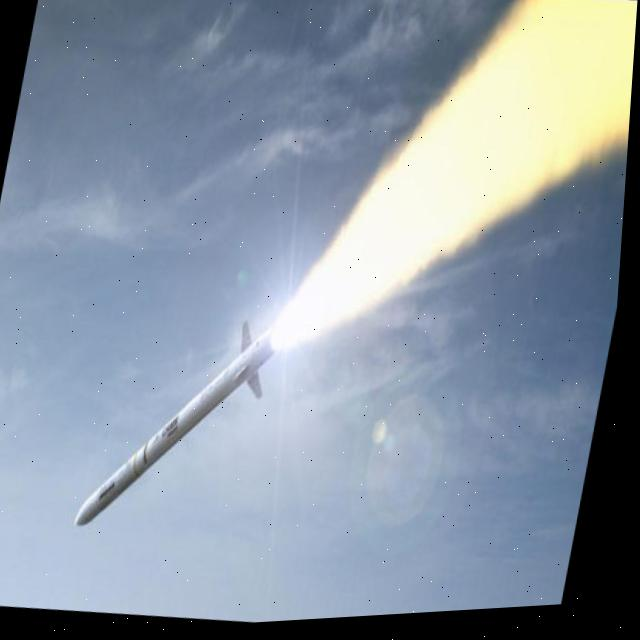missile: (72, 302, 289, 549)
